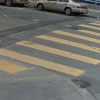crosswalk: (0, 20, 100, 76)
